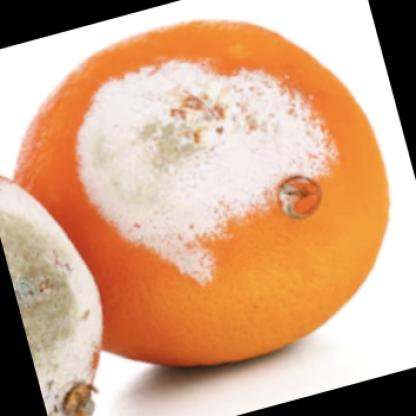rotten: (18, 22, 388, 367)
